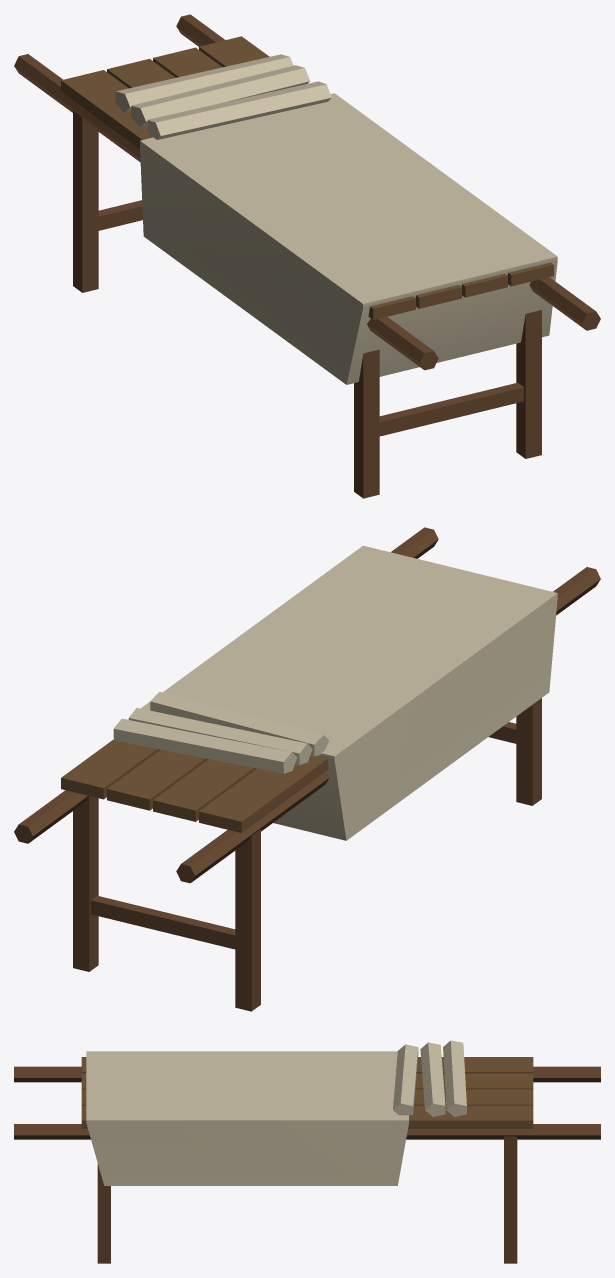
File: Bier.fbx
3 renders of one model, top to bottom at view 1: azimuth 30°, elevation 25°; view 2: azimuth 150°, elevation 25°; view 3: azimuth 270°, elevation 25°, orthographic. The views are drawn at different scales.
Visible parts, largest first — view 1: Bier; view 2: Bier; view 3: Bier.
Boxes of the visible parts, x1=… form: Bier: x1=14, y1=14, x2=600, y2=498; Bier: x1=14, y1=527, x2=600, y2=1011; Bier: x1=14, y1=1040, x2=600, y2=1263.
Size of the model in its own units: 0.75 by 0.7933 by 2.6.
